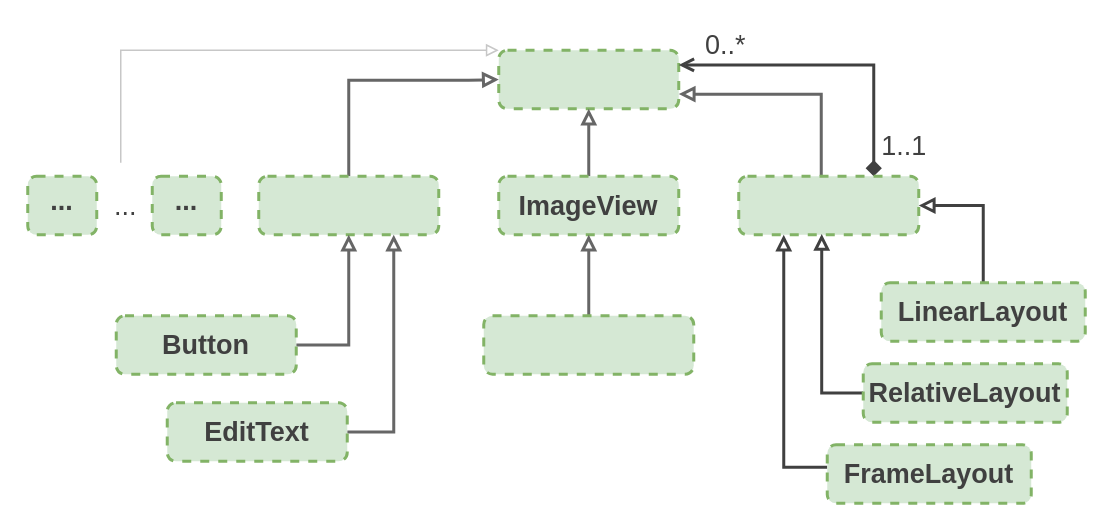
This 1112x530 diagram has some shape labels left out. Here are the shapes that lost their labels. From the top down, the centre of each, then its label:
the point at 588,79: View
the point at 348,205: TextView
the point at 828,205: ViewGroup
the point at 588,344: ImageButton
